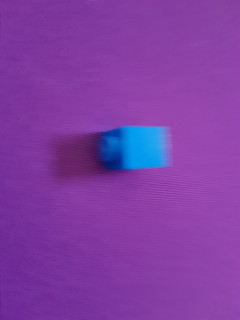1x1 blue: (93, 123, 175, 175)
